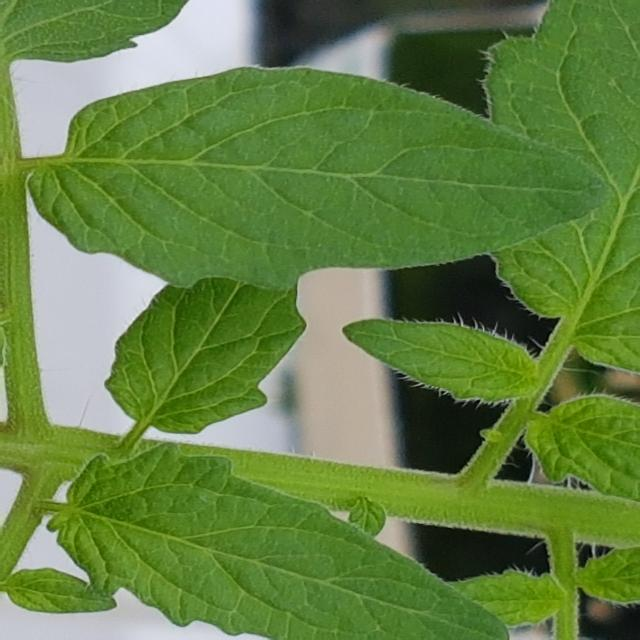Healthy Leaf: (32, 69, 611, 288), (54, 444, 510, 640), (489, 1, 640, 376), (107, 284, 306, 436), (344, 319, 538, 403), (1, 1, 193, 63), (528, 396, 640, 502), (448, 571, 566, 627), (8, 570, 119, 613), (577, 547, 640, 607)
